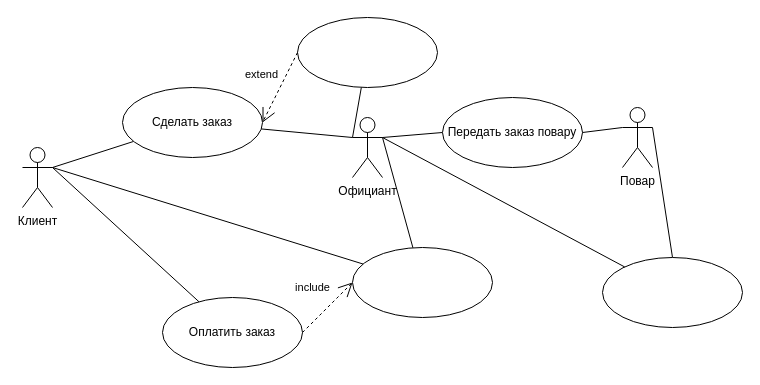
Some shapes in this 760 by 385 pixel diagram are drawn without their labels. The shapes that lost their labels are listed below. From the top down, each one's centre as x and y in pixels, then its label:
pixel 367 52: Уточнить предпочтения по блюду
pixel 422 282: Предоставить блюдо
pixel 672 292: Приготовить блюдо
